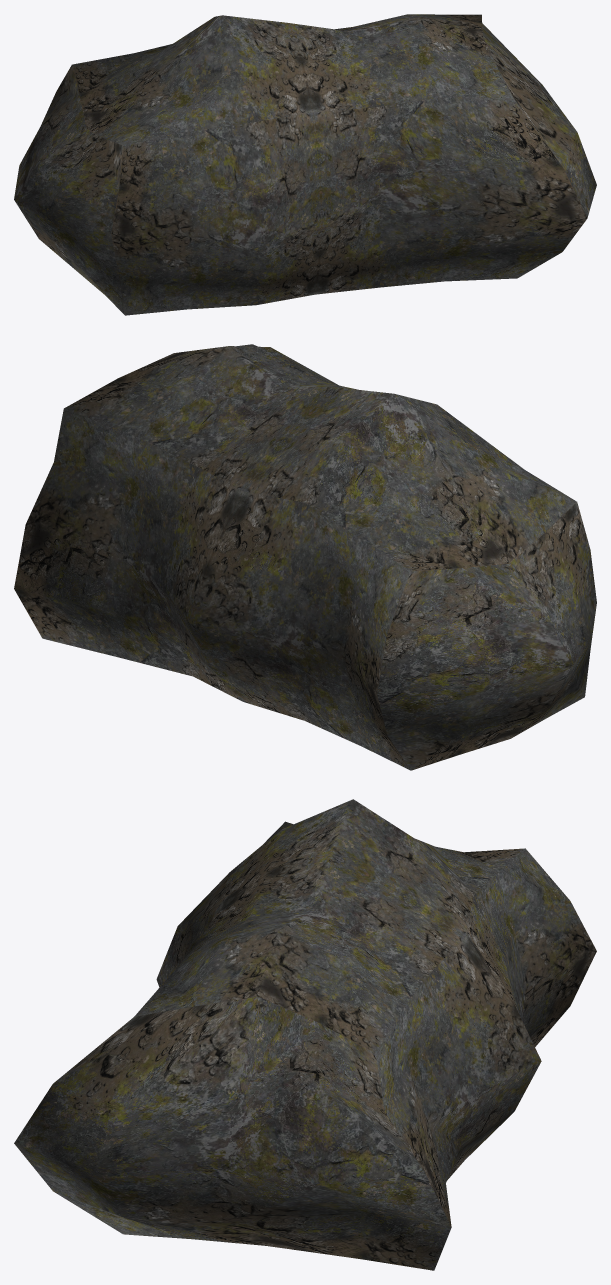
Rendered from Rock05.fbx.
The picture shows the model from 3 angles, top to bottom: view 1: azimuth 30°, elevation 25°; view 2: azimuth 150°, elevation 25°; view 3: azimuth 270°, elevation 25°; orthographic projection. The views are drawn at different scales.
Parts seen in each view (by area): view 1: Rock05; view 2: Rock05; view 3: Rock05.
Part boxes in pixels (bbox=[...]): Rock05: bbox=[14, 14, 596, 315]; Rock05: bbox=[14, 344, 596, 770]; Rock05: bbox=[14, 799, 596, 1270].
Bounding box in the file's own units: 162 × 79.03 × 135.
